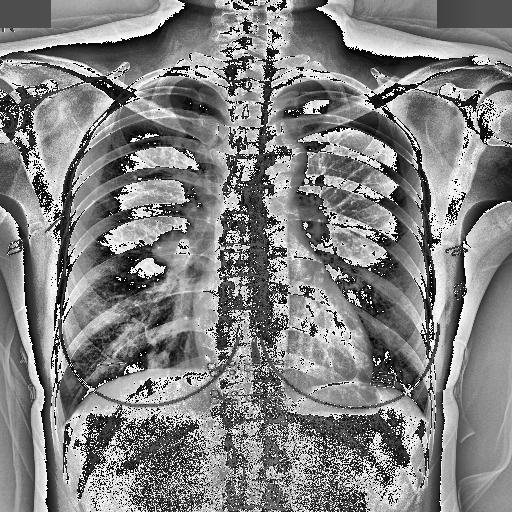11- Pleural thickening: (136, 76, 168, 92), (336, 82, 367, 98)
7- Lung Opacity: (152, 228, 190, 266)
8- Nodule-Mass: (149, 228, 193, 266), (152, 230, 192, 270), (152, 228, 190, 266), (133, 174, 138, 180)
